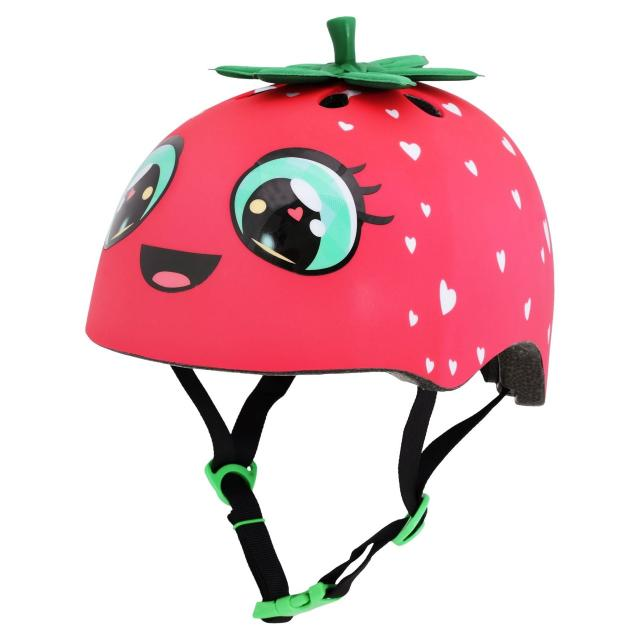helmet: (86, 15, 553, 401)
